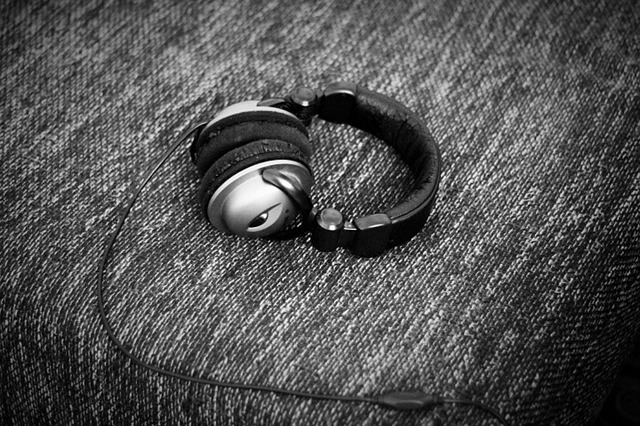headphones: (191, 82, 442, 257)
